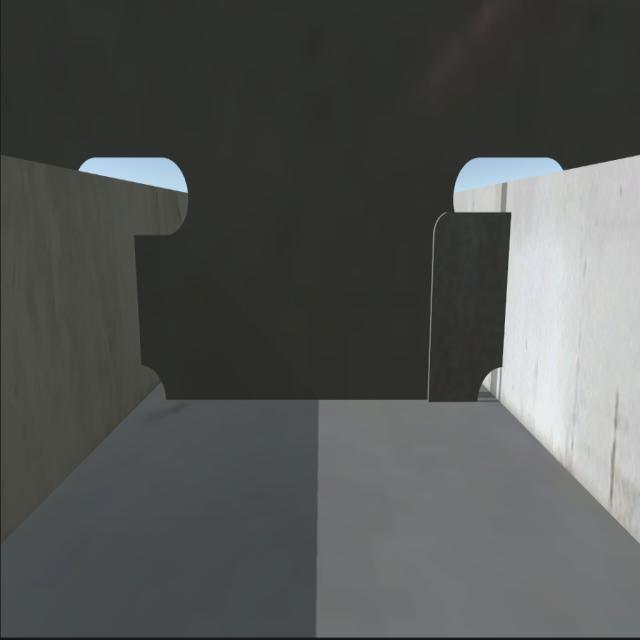fillet_hole: (146, 369, 174, 407), (470, 365, 499, 394)
fillet_yong_jeop_jang: (175, 397, 482, 404)
longi_yong_jeop_jang: (502, 217, 515, 368), (134, 239, 150, 361)
plate_CP05: (428, 210, 509, 400)
